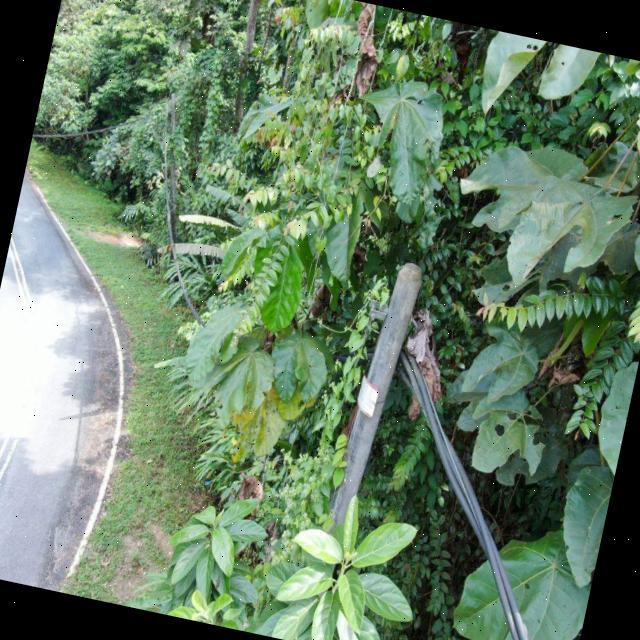critical vegetation: (269, 258, 402, 564)
